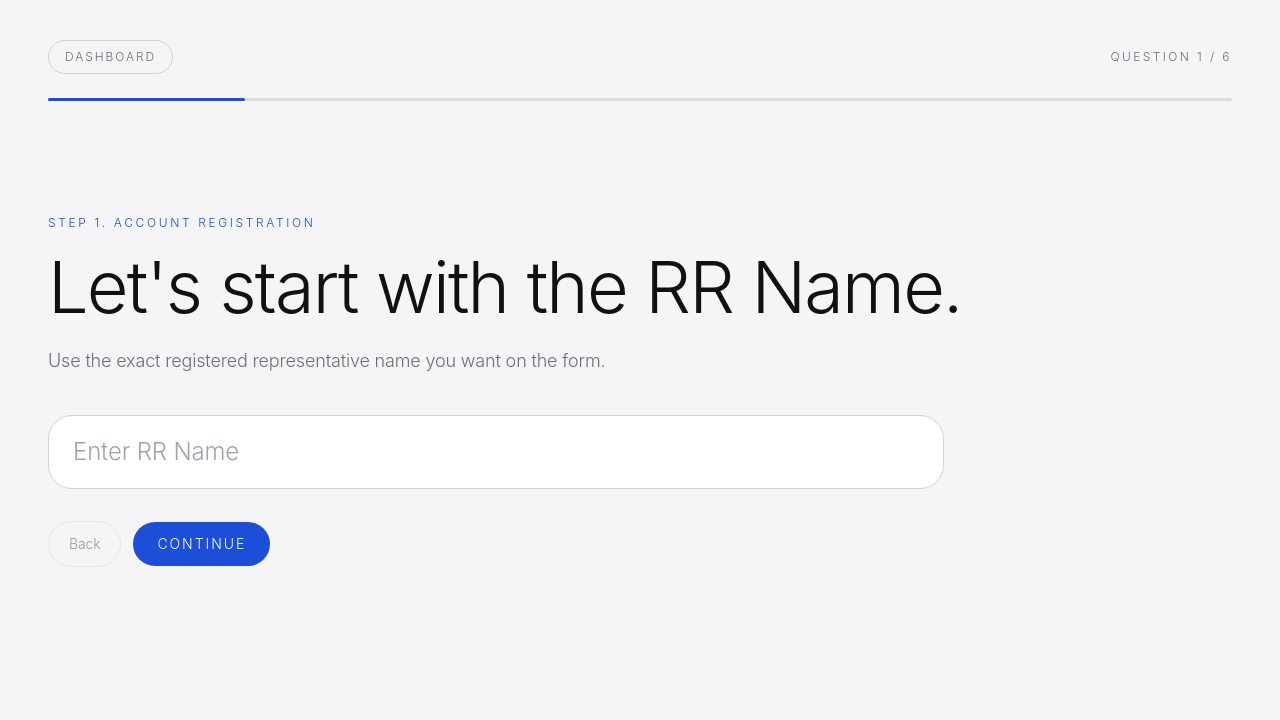
Test: InvestorProfileStep1Page › loads onboarding question and submits answer patch
This screenshot has width=1280, height=720.
Expected: the text "STEP 1. ACCOUNT REGISTRATION" is shown, [48,214,316,230]
Expected: the heading "Let's start with the RR Name." is shown, [48,250,1072,322]
Type "Anish Suman" into the field with placeholder "Enter RR Name" at (496, 452), box [48,414,944,488]
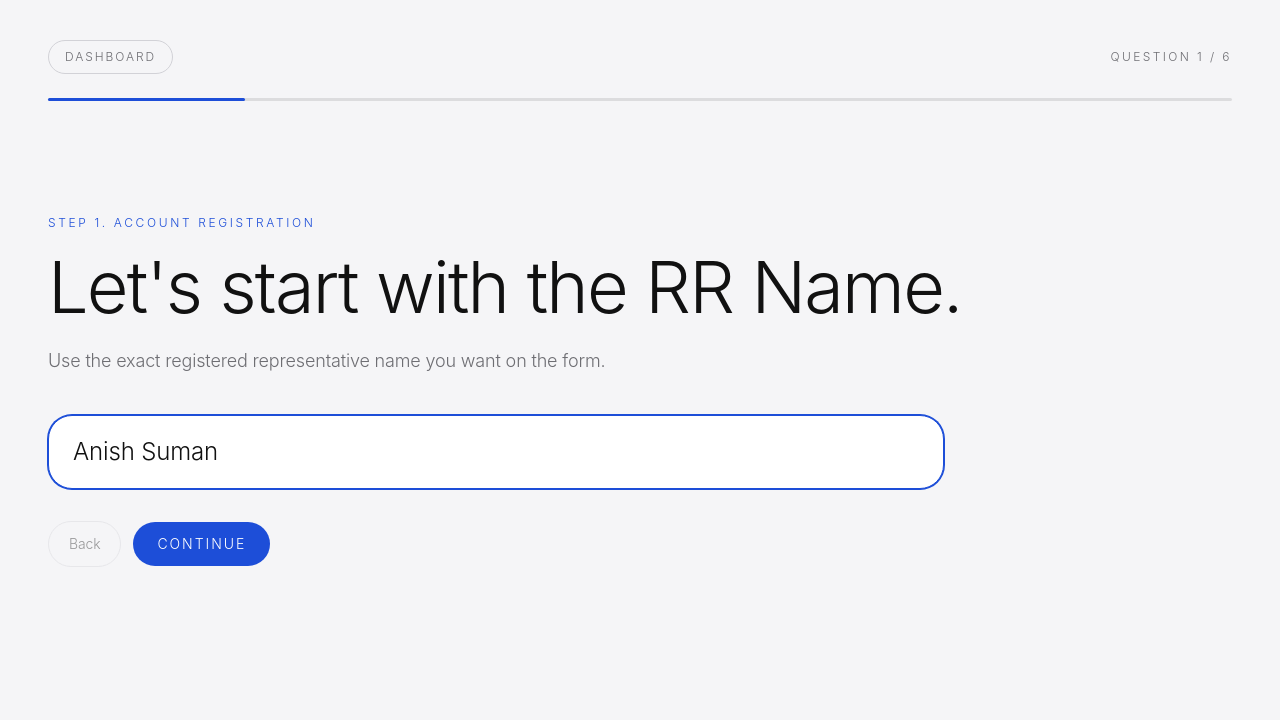
Click the button "Continue" at (202, 544), box [133,522,270,566]
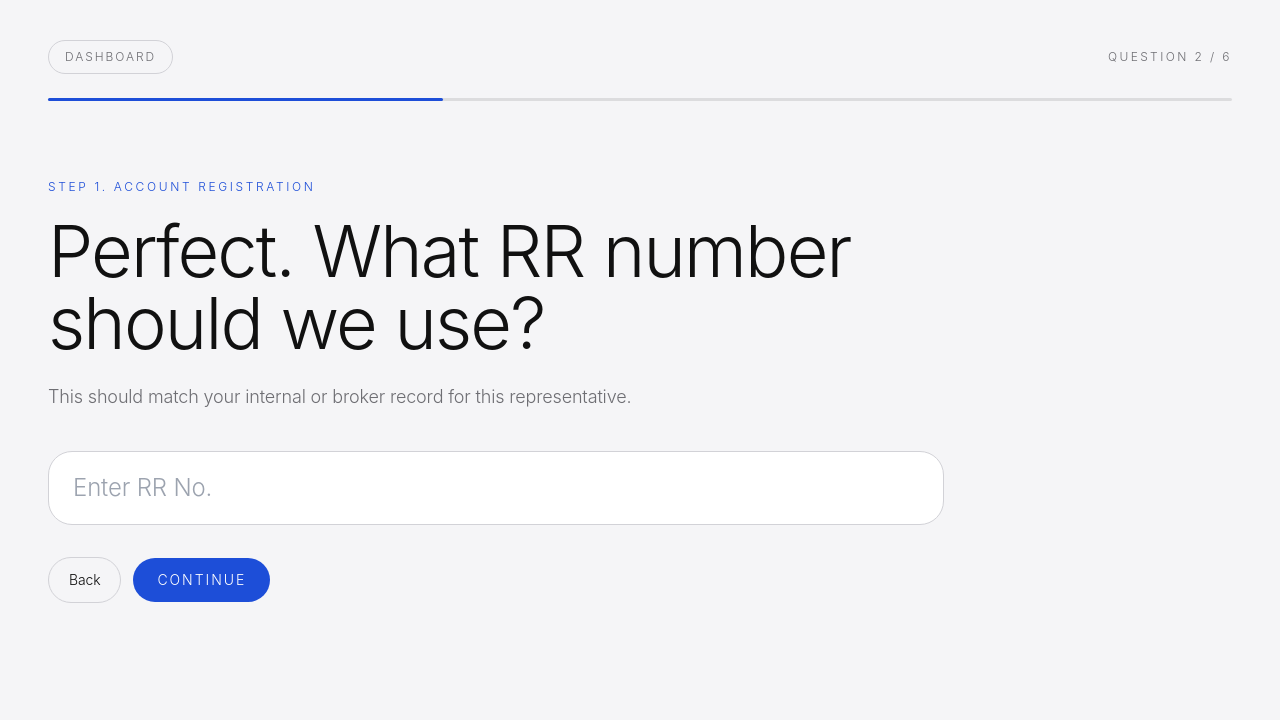
Now the heading "Perfect. What RR number should we use?" is shown, box [48,206,851,366]
